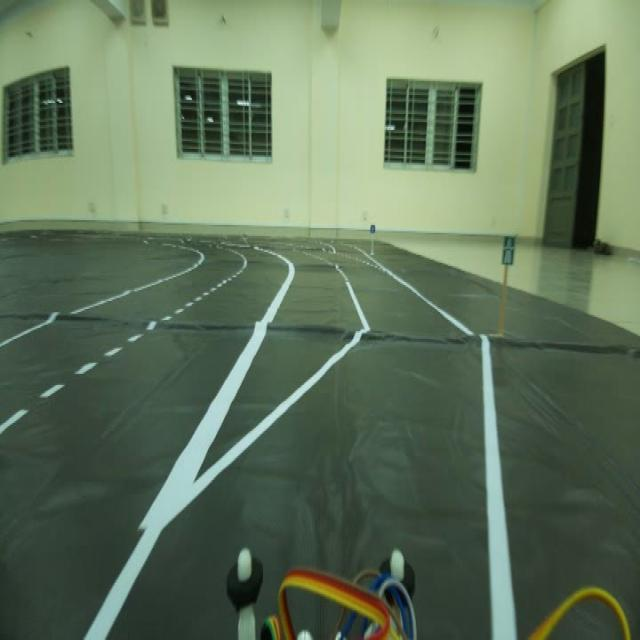highway_entry: (500, 228, 521, 277)
